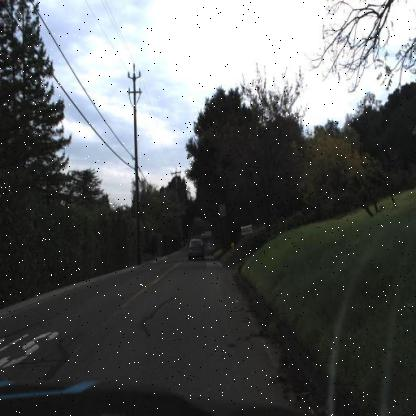car: (186, 235, 208, 264)
